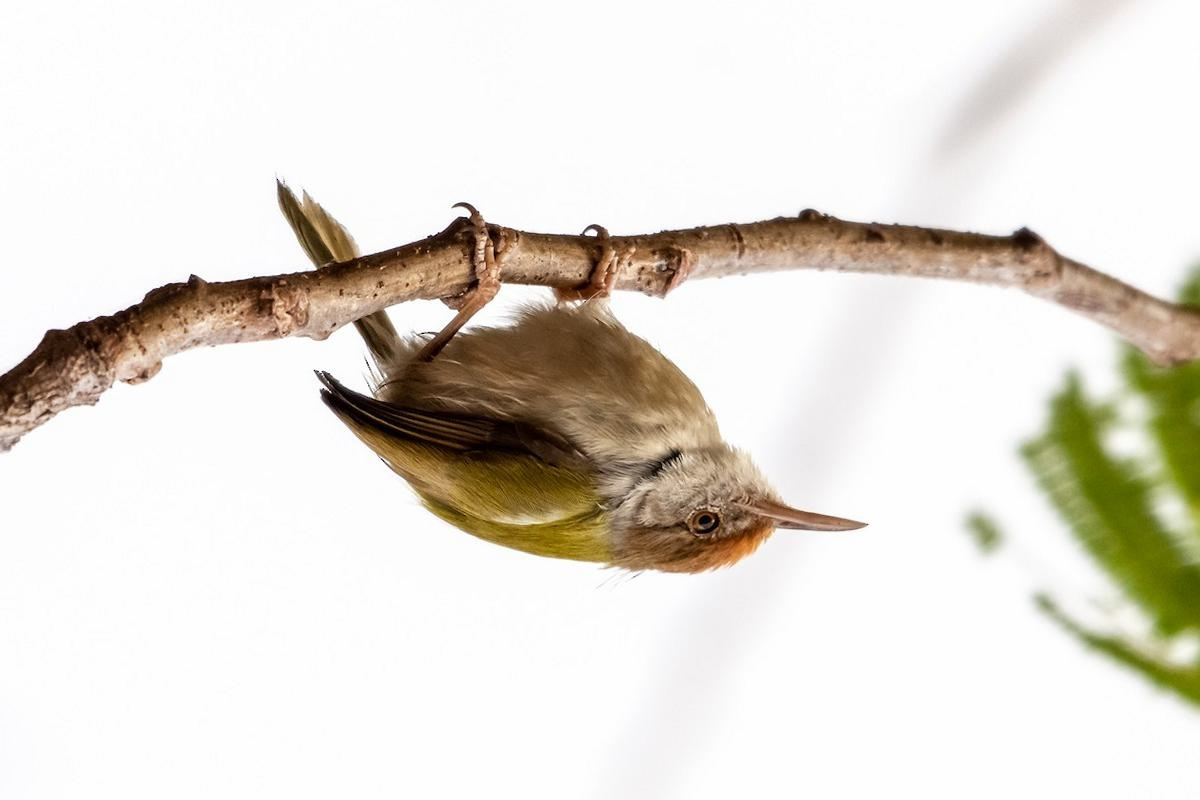tailorbird: (279, 172, 886, 588)
